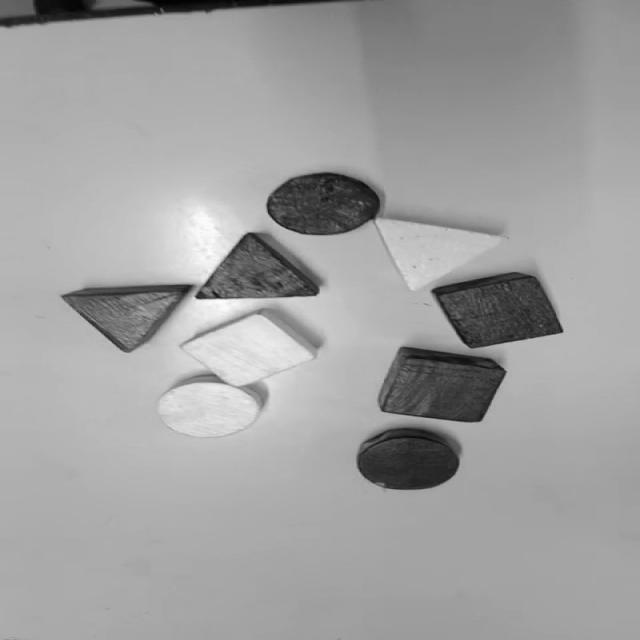bcircle: (267, 173, 377, 234)
bcube: (433, 272, 562, 348)
btriangle: (198, 233, 318, 300)
rcircle: (358, 428, 462, 489)
rcube: (379, 348, 504, 421)
rtriangle: (61, 286, 192, 352)
ycircle: (156, 375, 268, 438)
ycube: (184, 310, 328, 384)
ytriangle: (374, 218, 505, 291)
